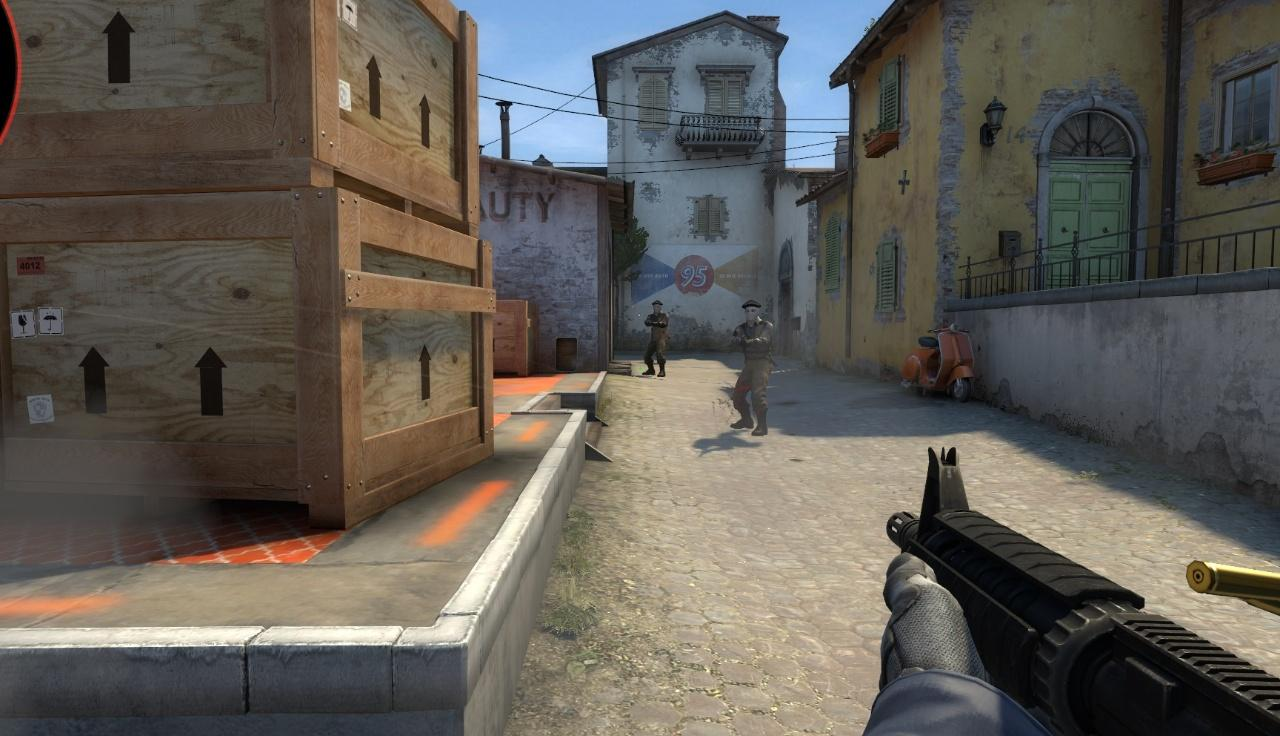rifle: (862, 446, 1272, 730)
tt: (730, 299, 775, 437), (644, 300, 671, 378)
tthead: (744, 301, 760, 324), (651, 301, 663, 315)
